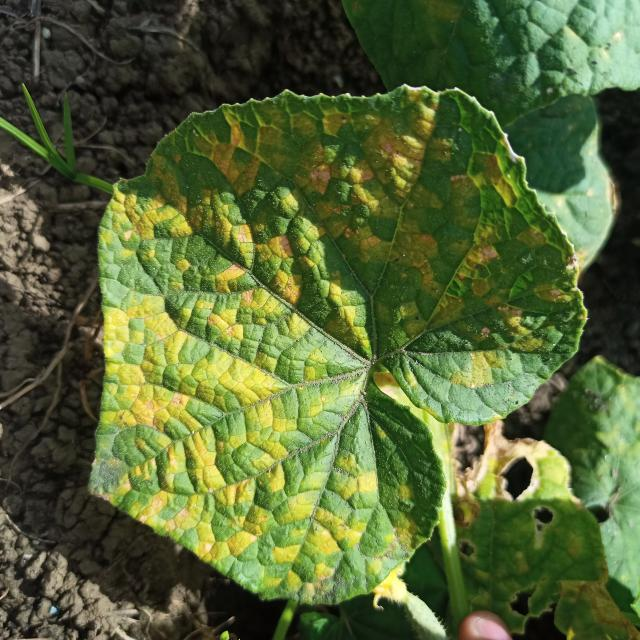disease_cucumber: (99, 85, 556, 593)
